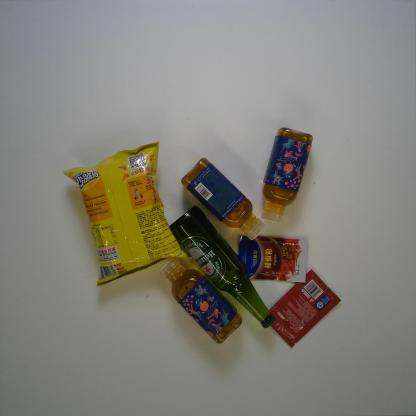Alcohol: (168, 205, 276, 330)
Drink: (159, 255, 243, 346), (180, 157, 265, 241), (260, 126, 314, 225)
Puffed Food: (62, 140, 194, 290)
Seasoner: (268, 268, 342, 350), (237, 235, 308, 284)
